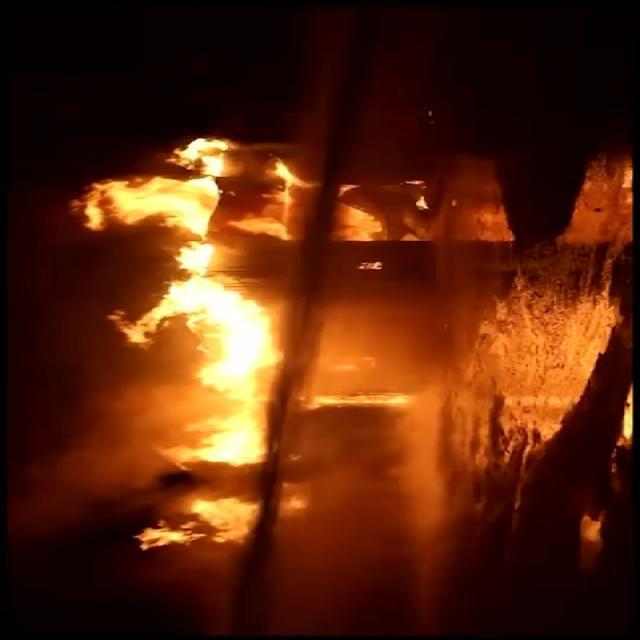Fire: (59, 128, 462, 564)
